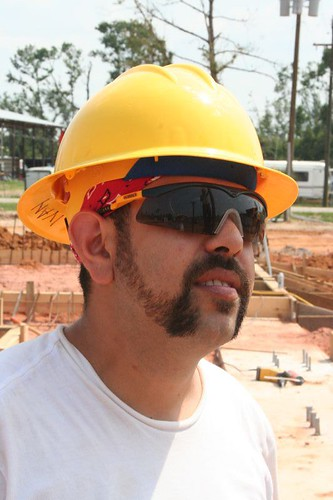person hardhat: (1, 41, 303, 500)
